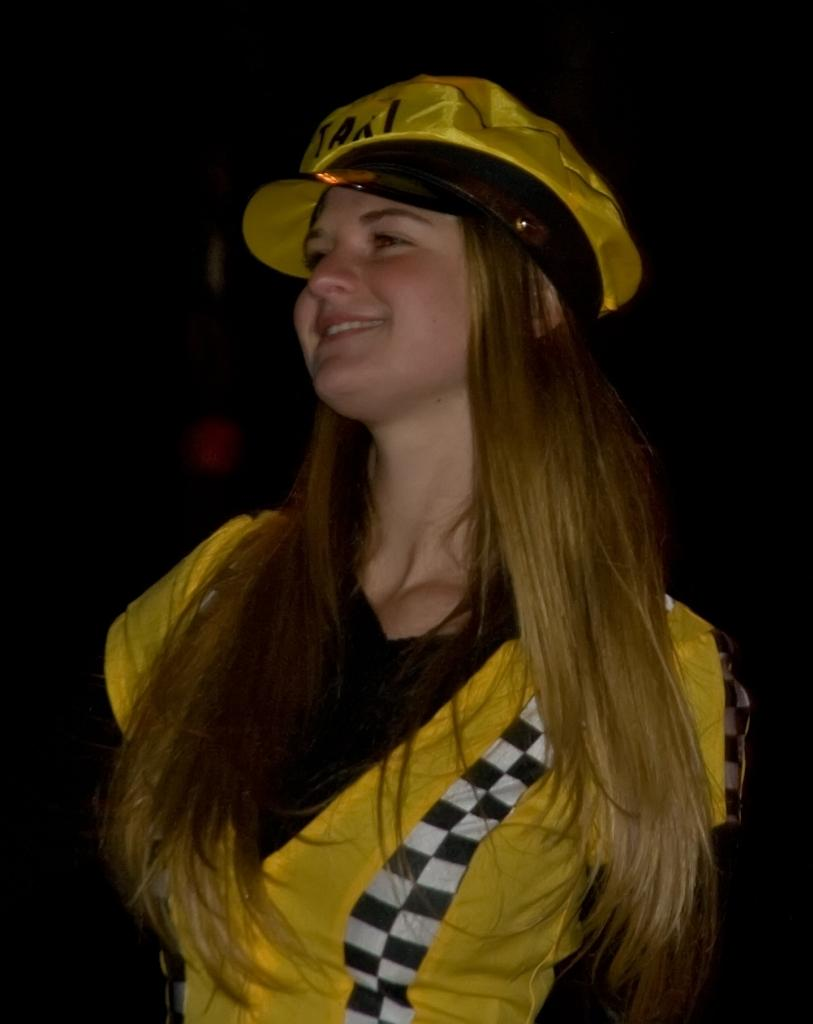Hat: (244, 62, 638, 350)
